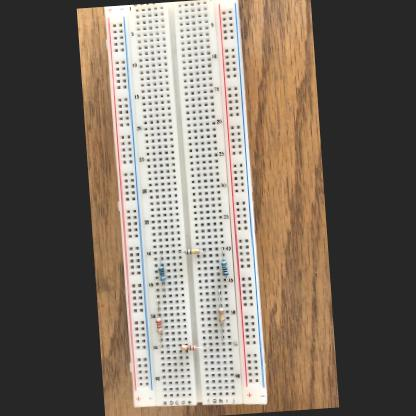breadboard: (102, 0, 269, 415)
resistor: (218, 308, 225, 324), (155, 318, 162, 334), (158, 267, 165, 282), (181, 344, 196, 351), (221, 262, 228, 276), (184, 248, 200, 254)
wire: (156, 296, 161, 318), (218, 287, 221, 308), (221, 324, 224, 344), (160, 252, 164, 266), (196, 344, 210, 348), (168, 346, 181, 350), (224, 276, 228, 288), (222, 247, 224, 261), (164, 282, 166, 296), (160, 334, 162, 347), (200, 250, 206, 252), (180, 251, 184, 253)
